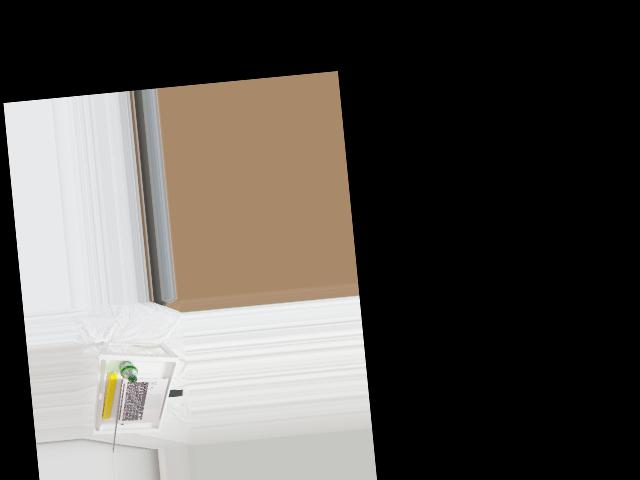beer: (118, 359, 138, 383)
